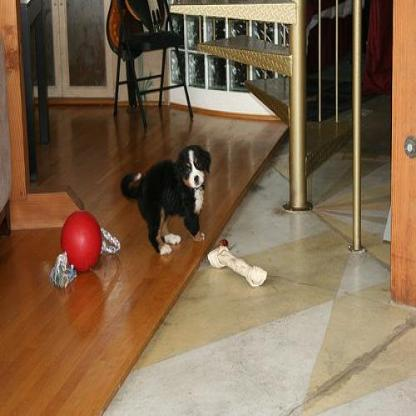Bernese_mountain_dog: (119, 144, 210, 255)
